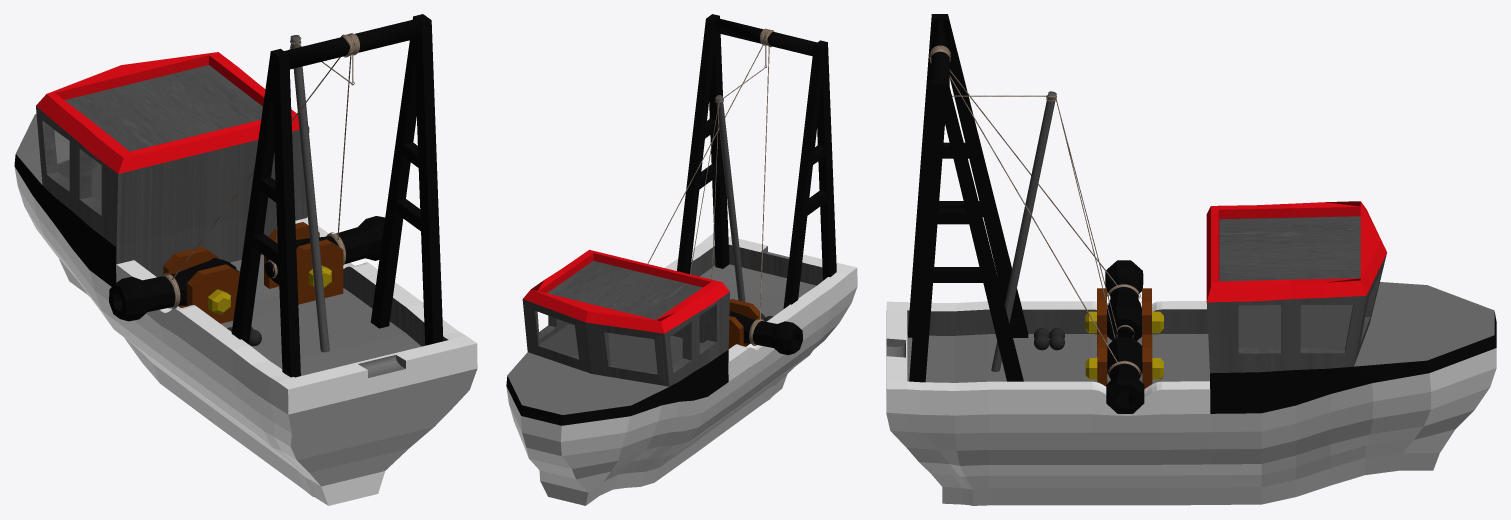
Rendered from Boat_Collab_Current.fbx.
The picture shows the model from 3 angles, left to right: view 1: azimuth 30°, elevation 25°; view 2: azimuth 150°, elevation 25°; view 3: azimuth 270°, elevation 25°; orthographic projection. The views are drawn at different scales.
Visible parts, largest first — view 1: Main_Body_Boat; view 2: Main_Body_Boat; view 3: Main_Body_Boat.
Boxes of the visible parts, x1,y1,x2,y2 form: Main_Body_Boat: (14, 14, 477, 505); Main_Body_Boat: (506, 14, 857, 505); Main_Body_Boat: (886, 14, 1496, 505).
Bounding box in the file's own units: 1768 × 2902 × 3608.
Materials: 13 (4 with a texture image).
